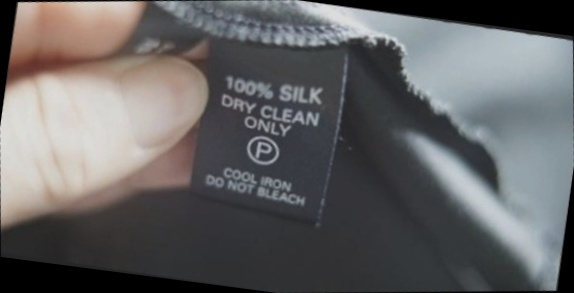dry_clean_any_solvent_except_trichloroethylene: (241, 127, 288, 172)
